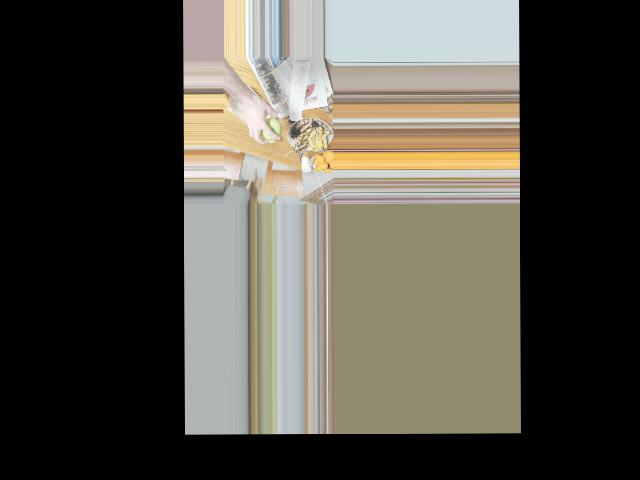apple: (259, 116, 281, 141)
